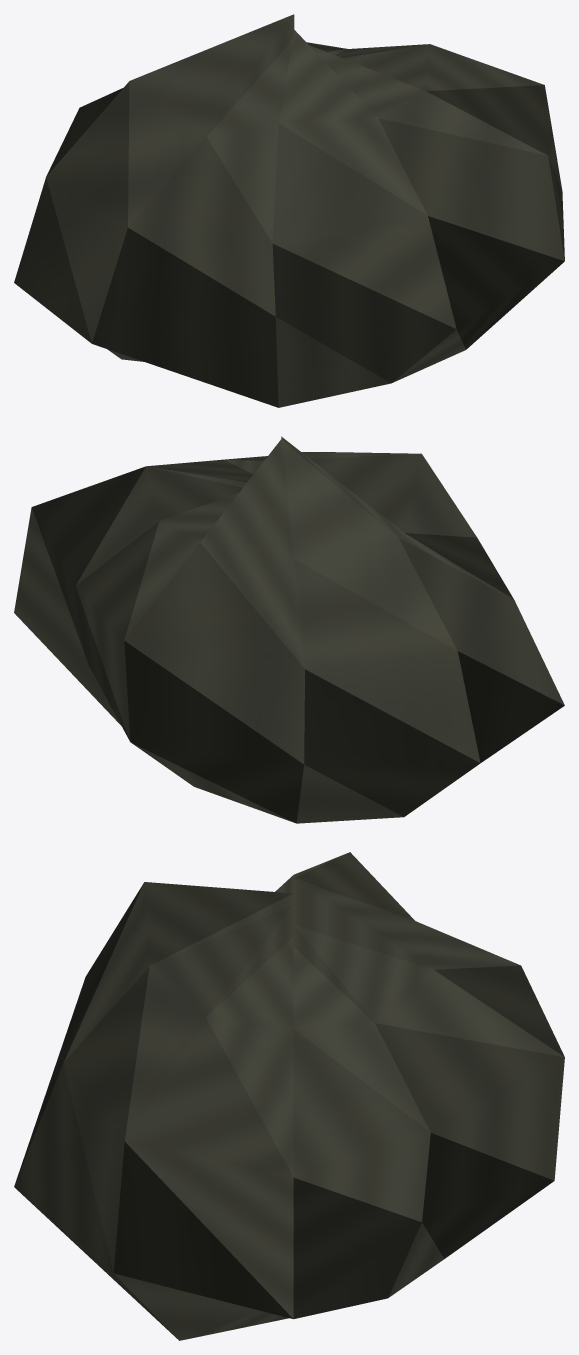
Rendered from env_rock_boulder_a.glb.
3 renders of one model, top to bottom at view 1: azimuth 30°, elevation 25°; view 2: azimuth 150°, elevation 25°; view 3: azimuth 270°, elevation 25°, orthographic. The views are drawn at different scales.
Parts seen in each view (by area): view 1: env_rock_boulder_a; view 2: env_rock_boulder_a; view 3: env_rock_boulder_a.
Boxes of the visible parts, <box> form: env_rock_boulder_a: <box>14,14,564,407</box>; env_rock_boulder_a: <box>14,436,564,823</box>; env_rock_boulder_a: <box>14,852,564,1340</box>.
Bounding box in the file's own units: 2.47 × 1.72 × 1.93.
Materials: 1 (1 with a texture image).
